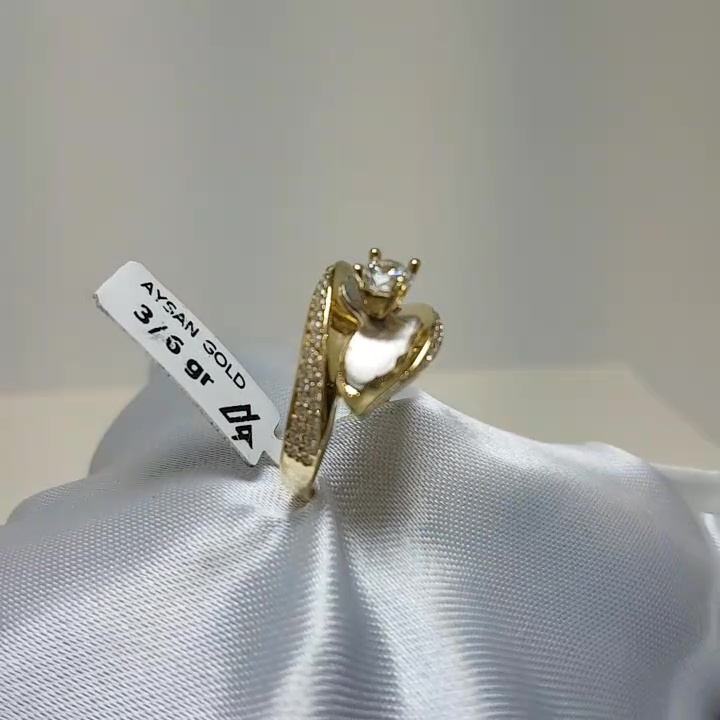Ring 6: (263, 237, 460, 521)
